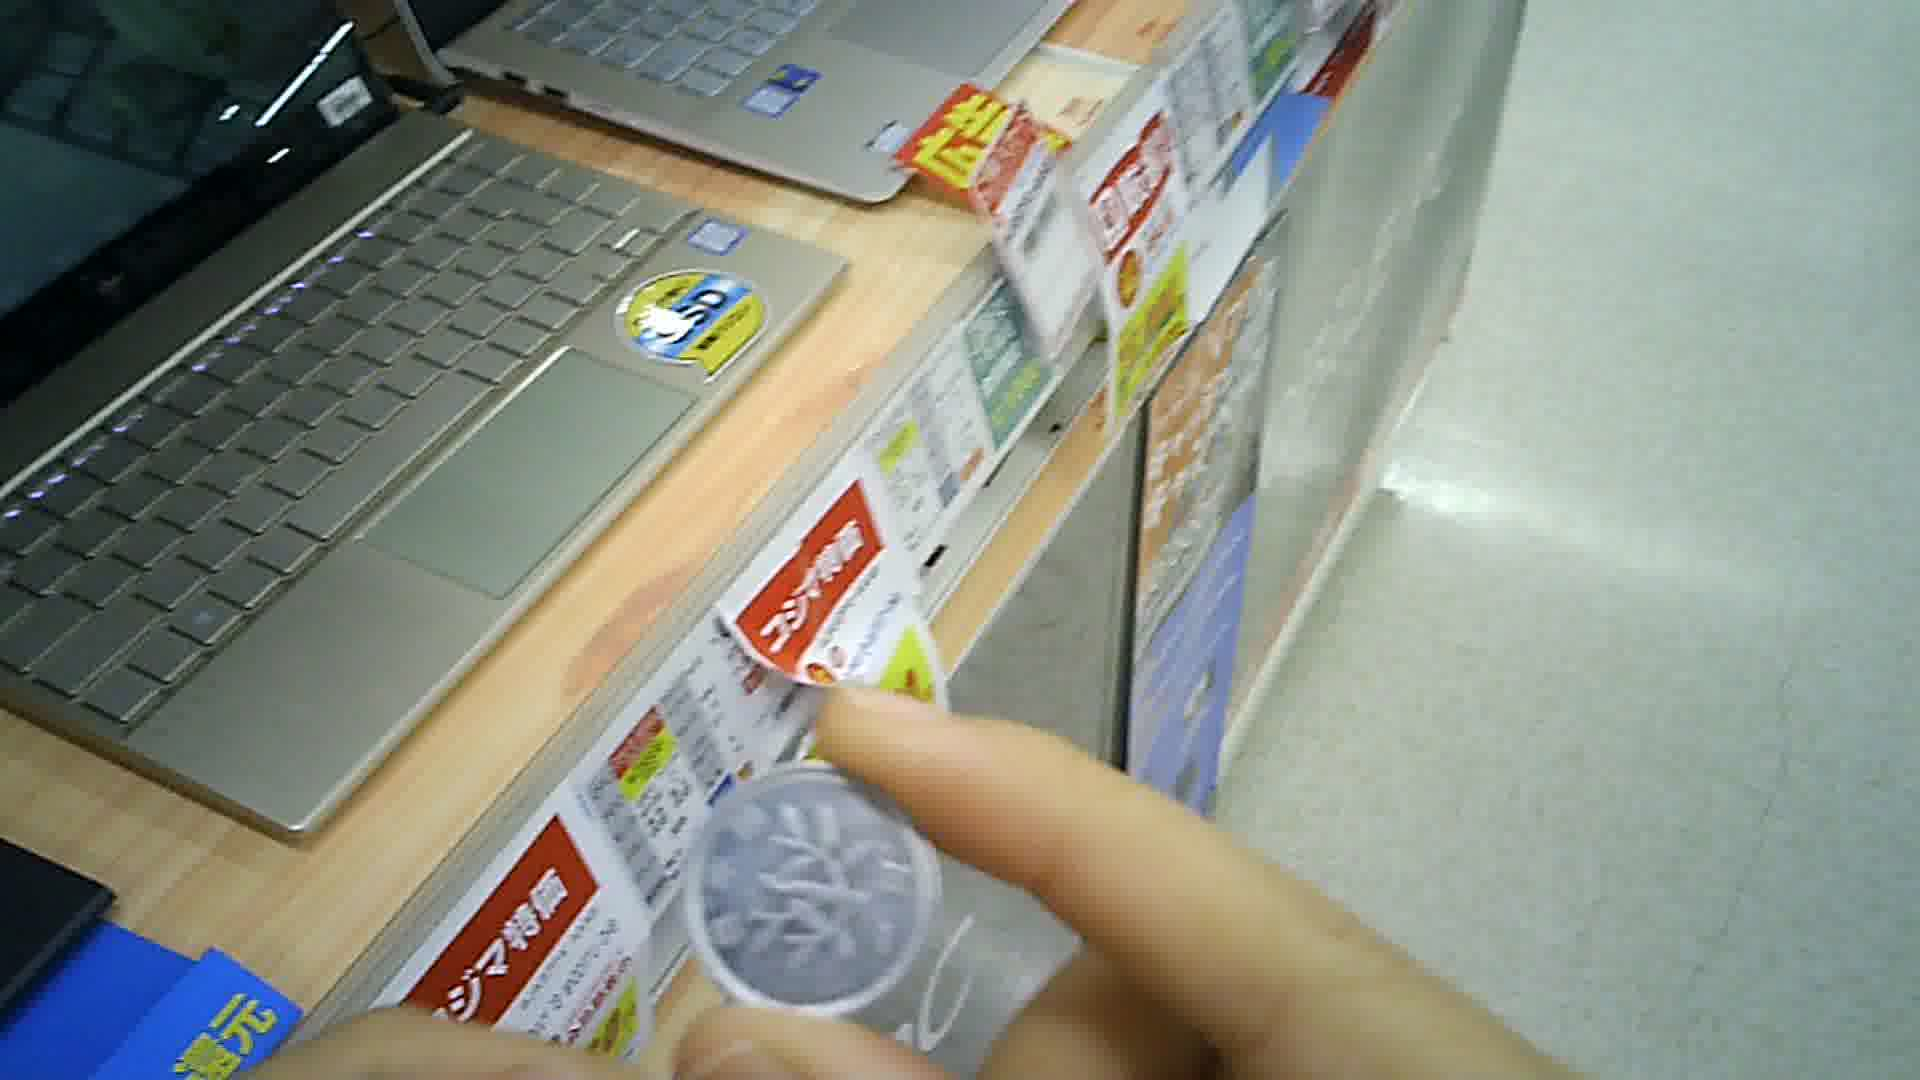1 Yen: (680, 752, 945, 1009)
